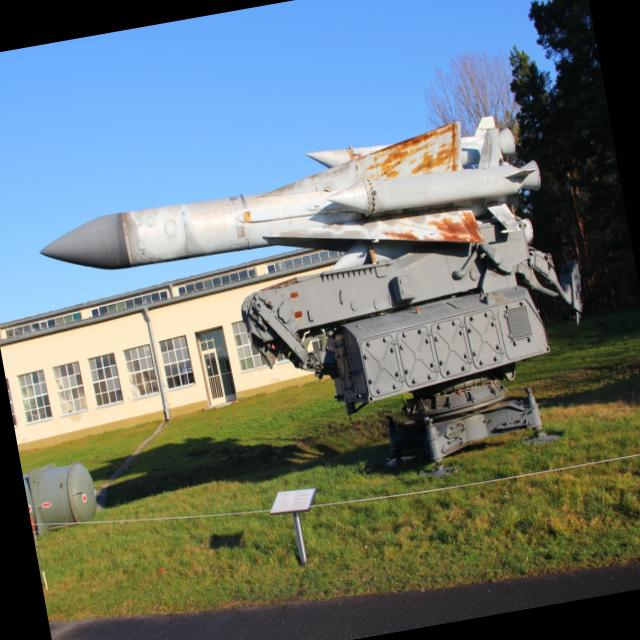rocket: (32, 109, 545, 310)
